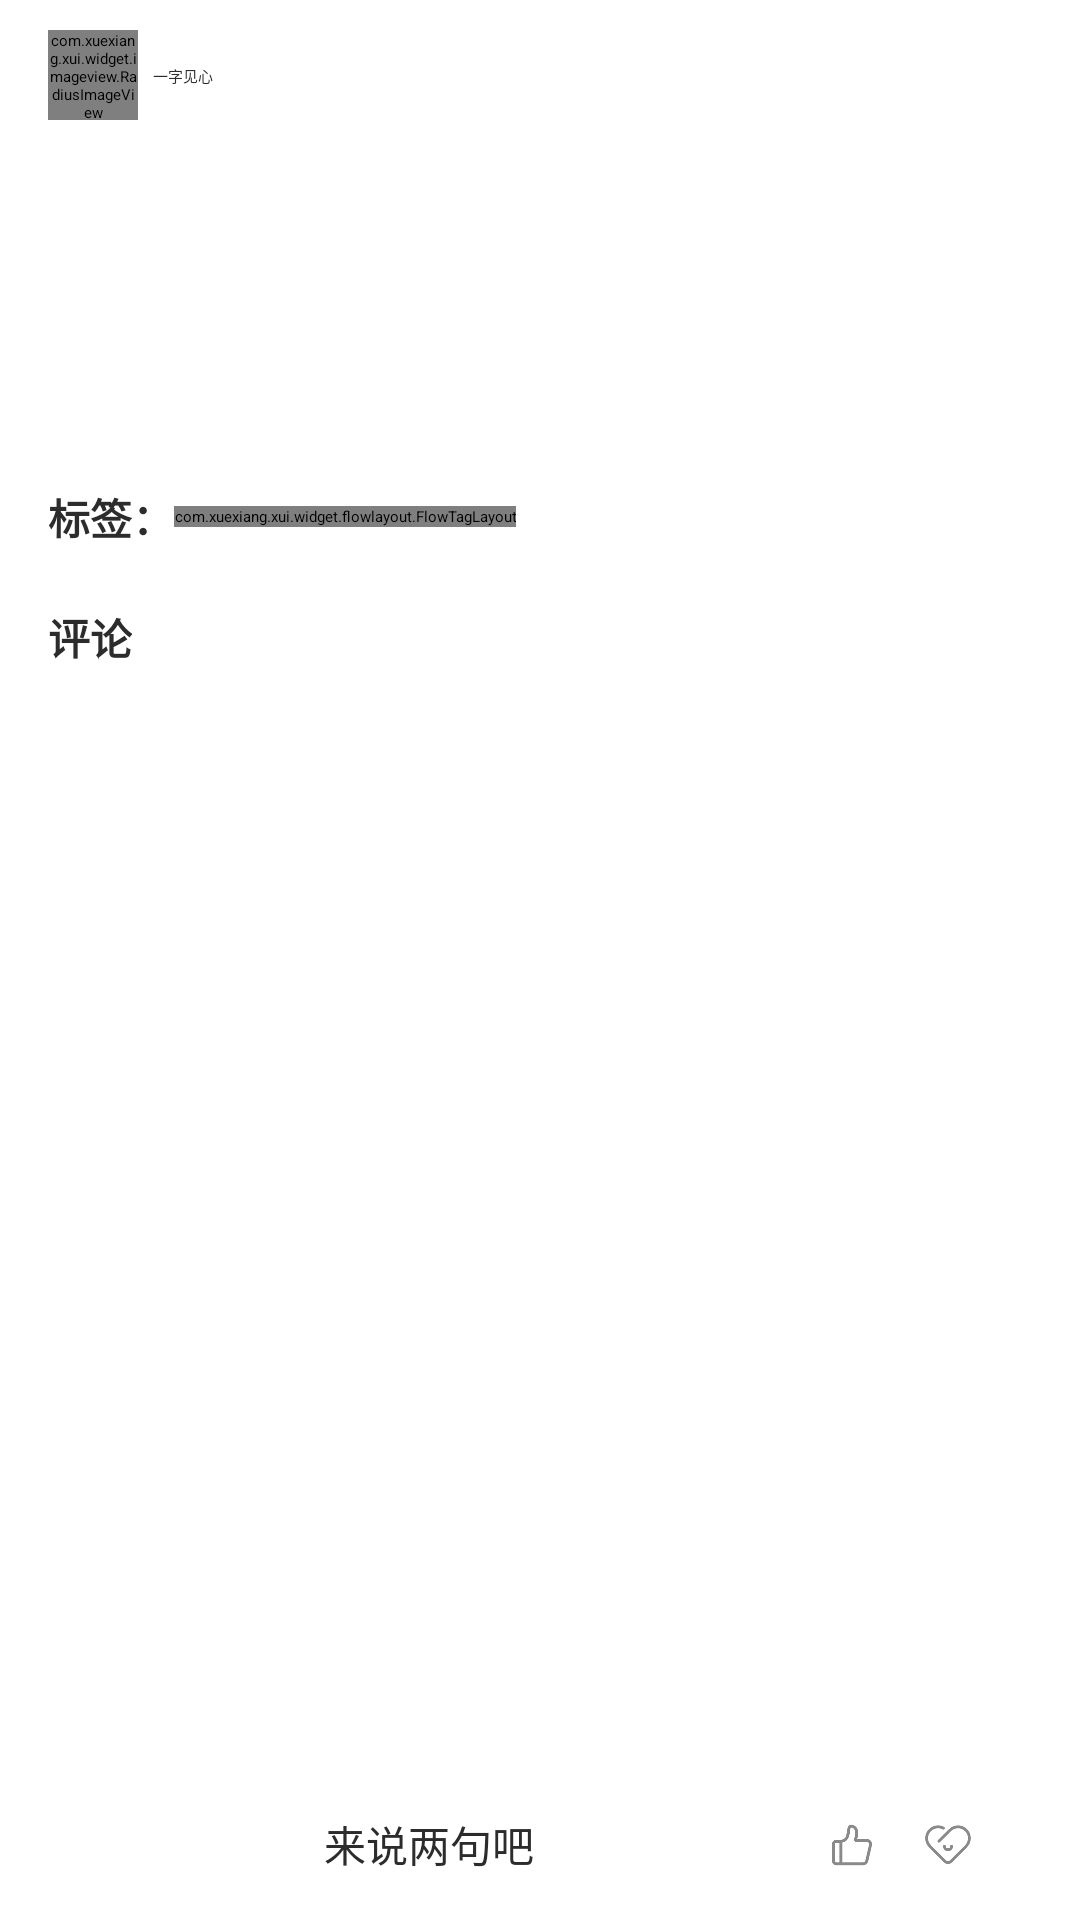

Screen size 1080*1920. Icon name, then its box in pixels as [x1=x1, y1=y1, x2=x2, y2=y2]:
dianzan: [x1=832, y1=1825, x2=872, y2=1865]
